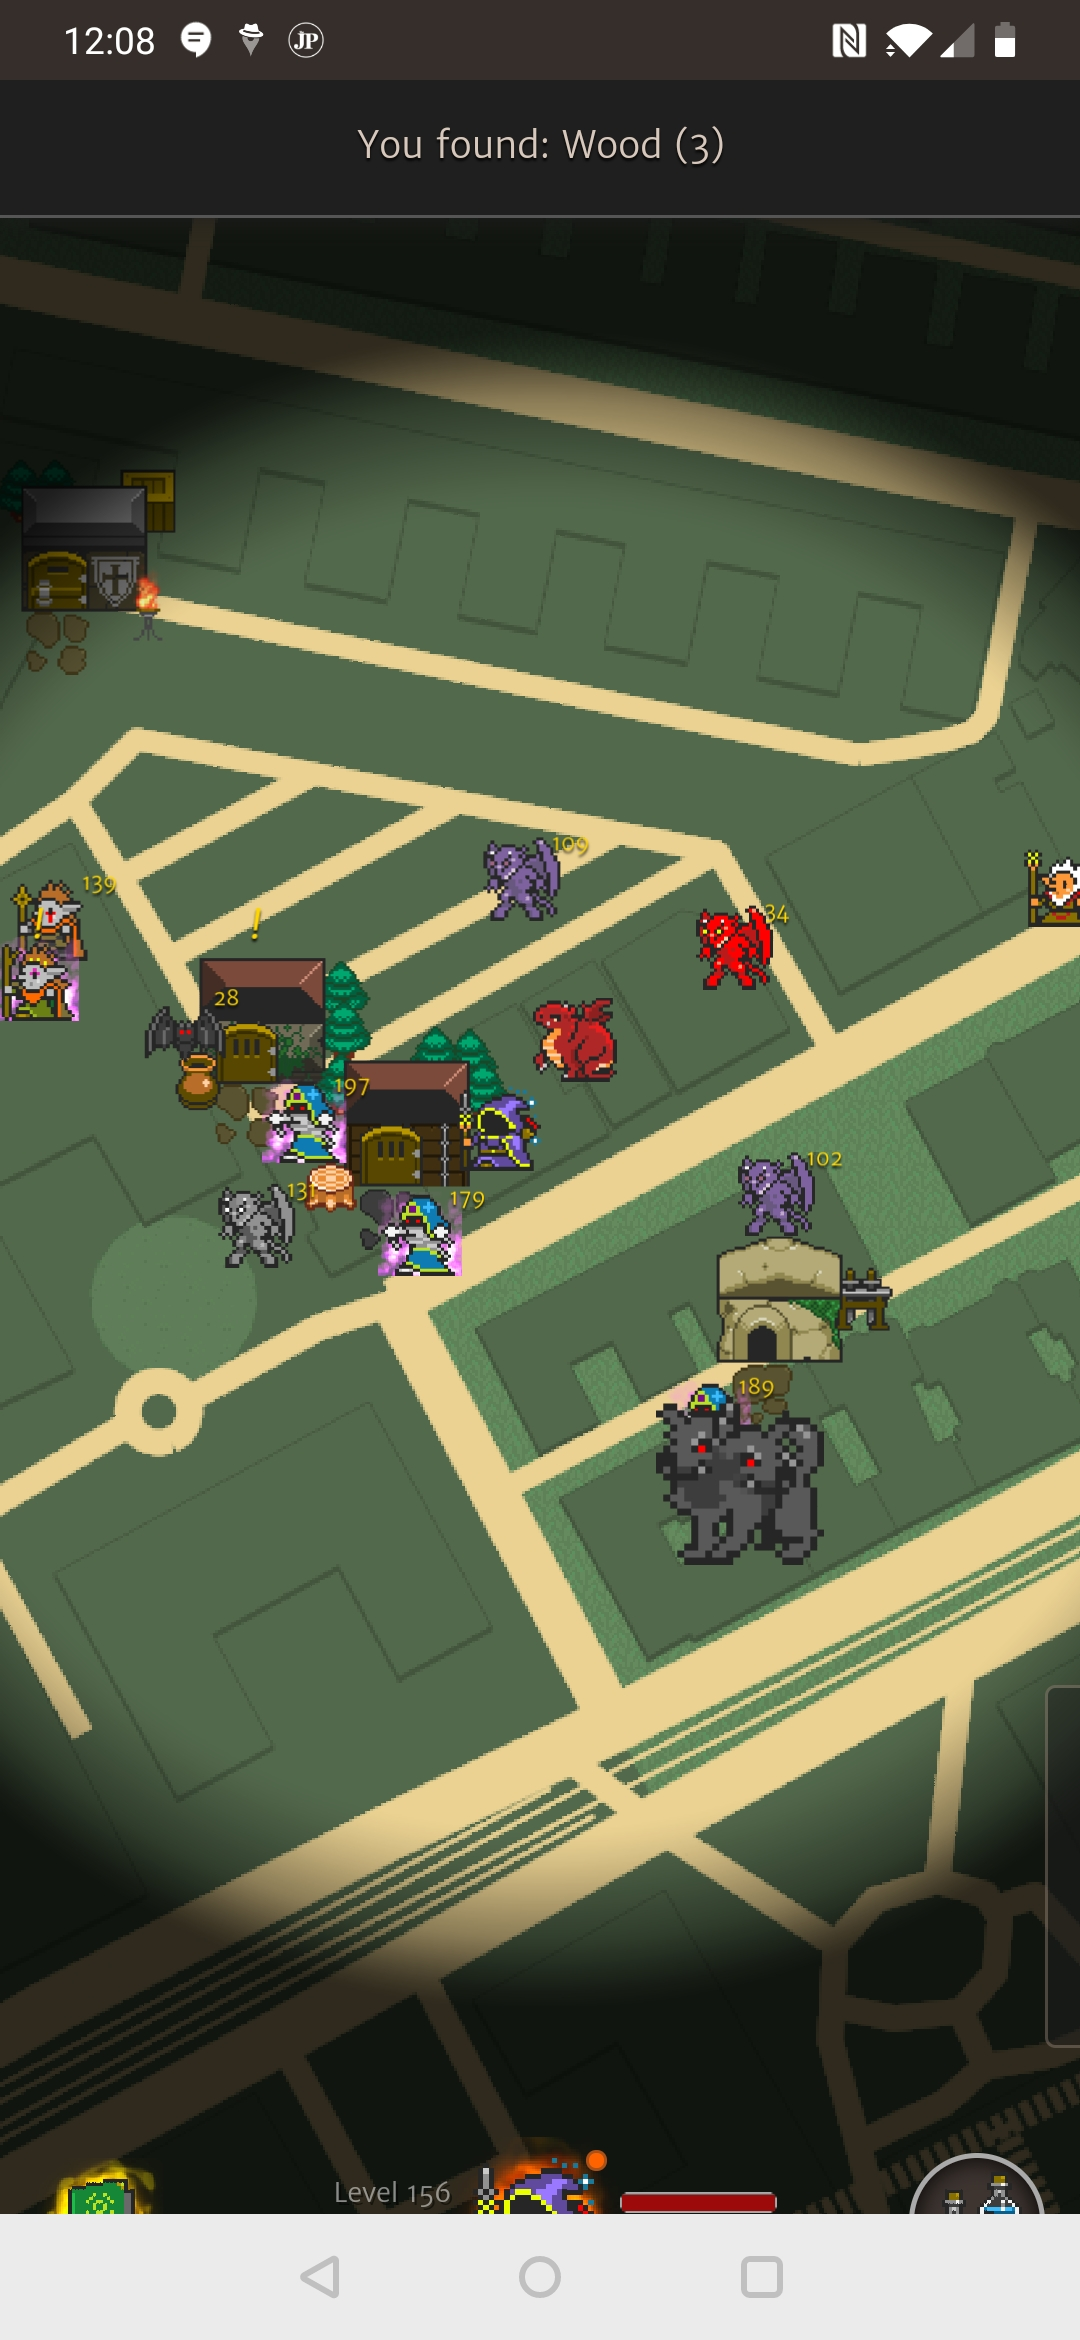monster: (469, 826, 592, 931), (681, 892, 798, 999), (727, 1145, 846, 1243), (14, 872, 127, 962)
player: (456, 1094, 537, 1172)
